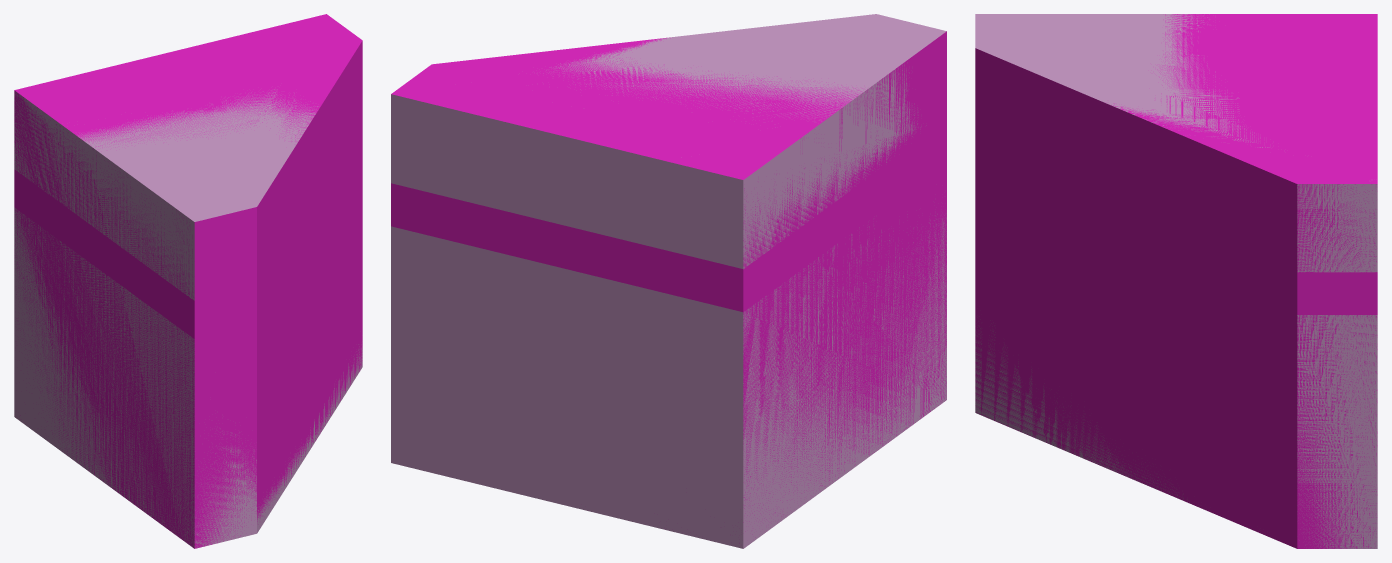
Rendered from building21.fbx.
3 views of the same model, side by side, from view 1: azimuth 30°, elevation 25°; view 2: azimuth 150°, elevation 25°; view 3: azimuth 270°, elevation 25° (orthographic). The views are drawn at different scales.
Parts seen in each view (by area): view 1: building21_COL, building21_MESH; view 2: building21_MESH, building21_COL; view 3: building21_COL, building21_MESH.
Part boxes in pixels (x1,y1,x2,y2): building21_COL: (14,14,362,548); building21_MESH: (14,89,362,548); building21_MESH: (391,14,946,548); building21_COL: (391,31,946,543); building21_COL: (975,14,1377,548); building21_MESH: (975,14,1377,548).
Size of the model in its own units: 600 by 600 by 600.
